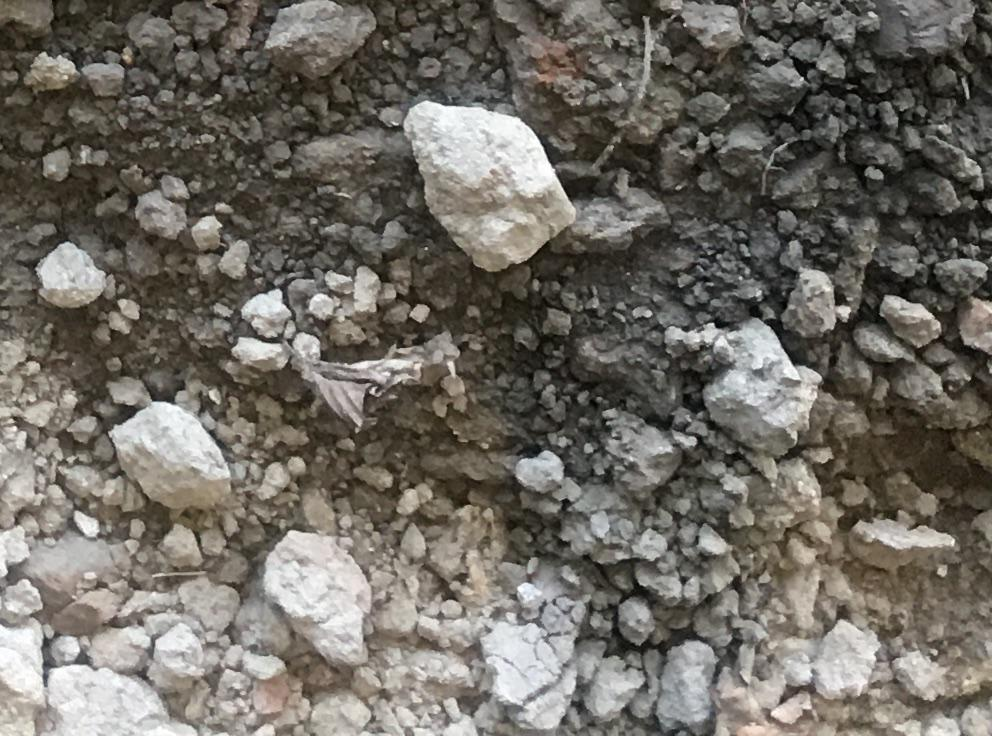block: (404, 97, 577, 273), (101, 397, 239, 518), (257, 527, 367, 666), (703, 326, 817, 458), (262, 2, 377, 84)
